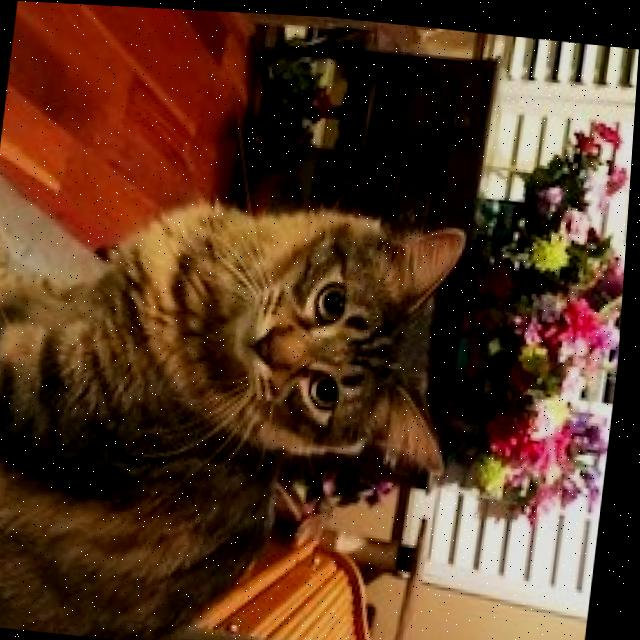Maine Coon: (0, 167, 480, 640)
